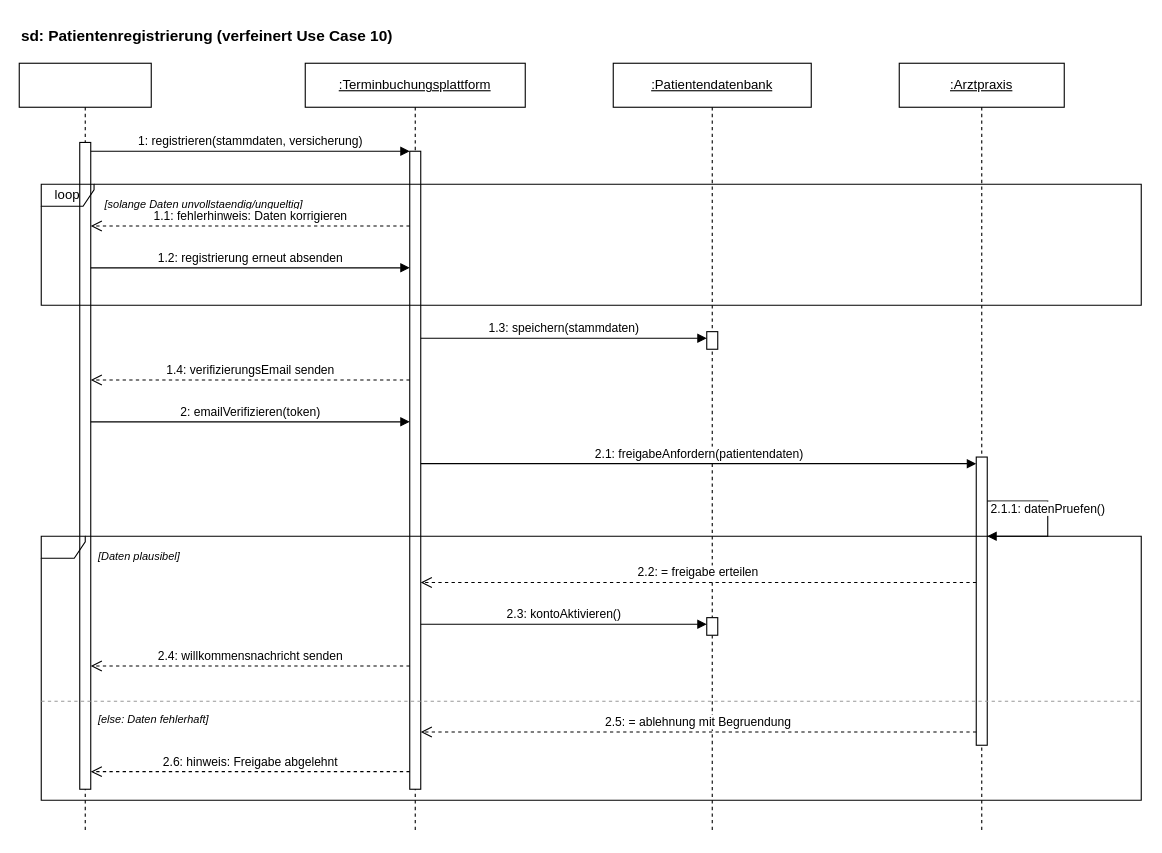
The diagram is 1162 pixels wide and 853 high, and some of its shapes have lost their labels. The box of each missing label's shape, as (x1, y1, x2, y2) in pixels:
:Patient: (18, 62, 151, 833)
alt: (40, 535, 1141, 800)
